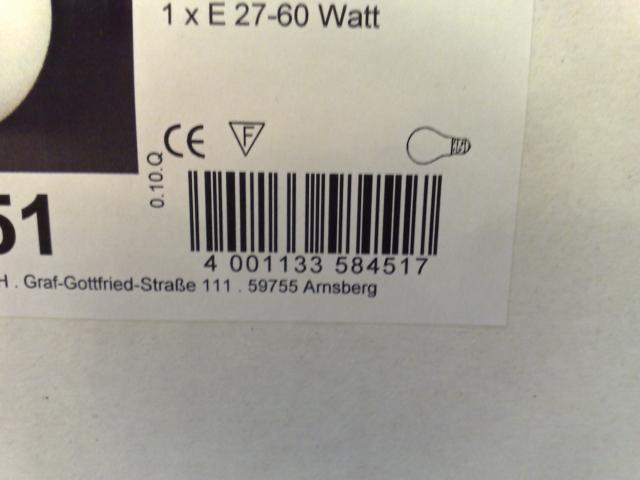Barcode: (175, 161, 454, 278)
